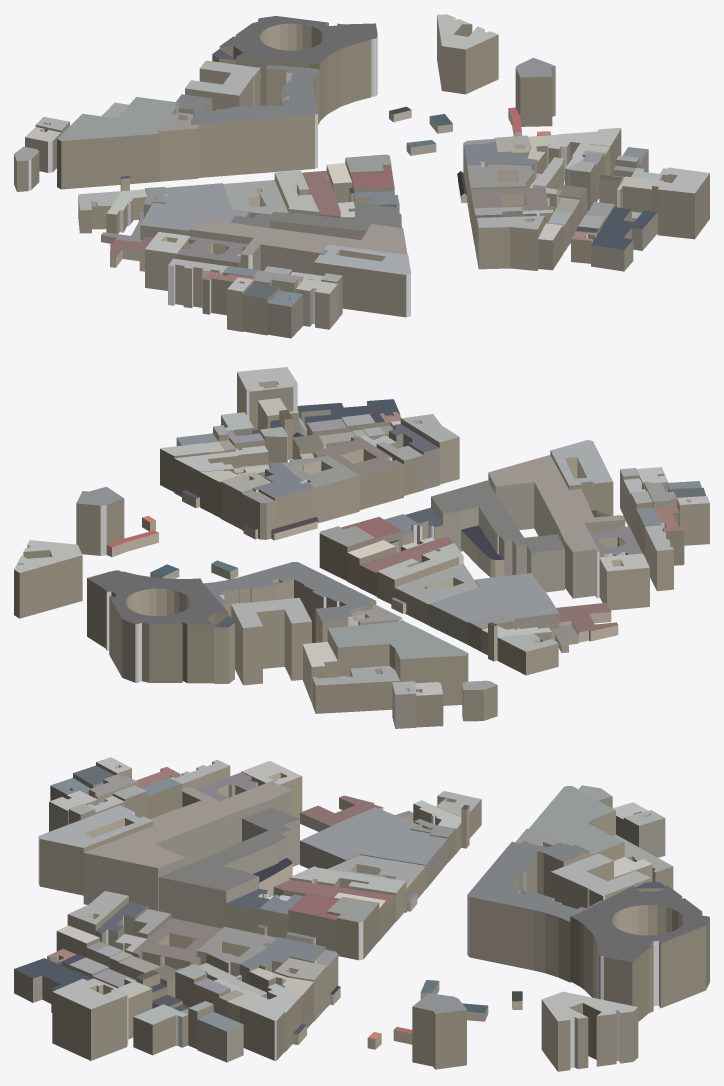
3 renders of one model, top to bottom at view 1: azimuth 30°, elevation 25°; view 2: azimuth 150°, elevation 25°; view 3: azimuth 270°, elevation 25°, orthographic. The views are drawn at different scales.
Visible parts, largest first — view 1: tuile; view 2: tuile; view 3: tuile.
Part boxes in pixels (x1,y1,x2,y2): tuile: (14,14,709,338); tuile: (14,367,709,728); tuile: (14,757,709,1071).
Bounding box in the file's own units: 269 × 34.14 × 296.
